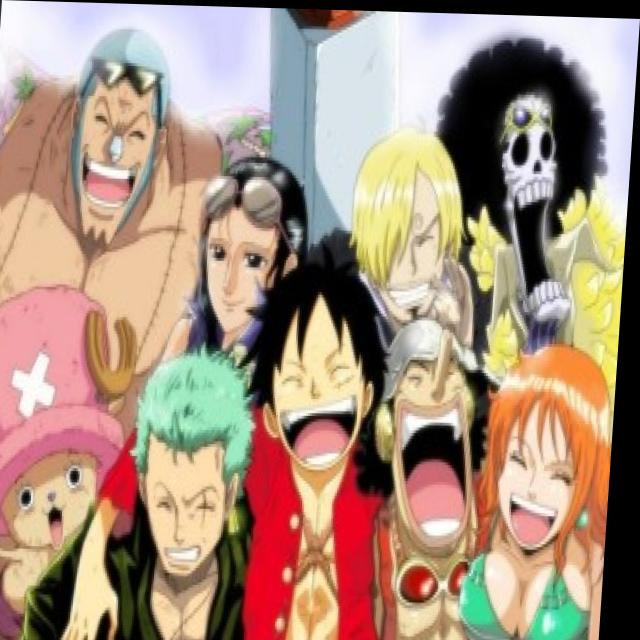Blook: (455, 40, 622, 322)
Chyopa: (0, 274, 158, 564)
Franky: (45, 13, 192, 269)
Luffy: (260, 251, 397, 474)
Nami: (474, 334, 623, 564)
NicoRobin: (183, 163, 324, 350)
Sangdi: (349, 122, 476, 332)
Usopp: (371, 305, 501, 565)
Zoro: (122, 348, 268, 589)
